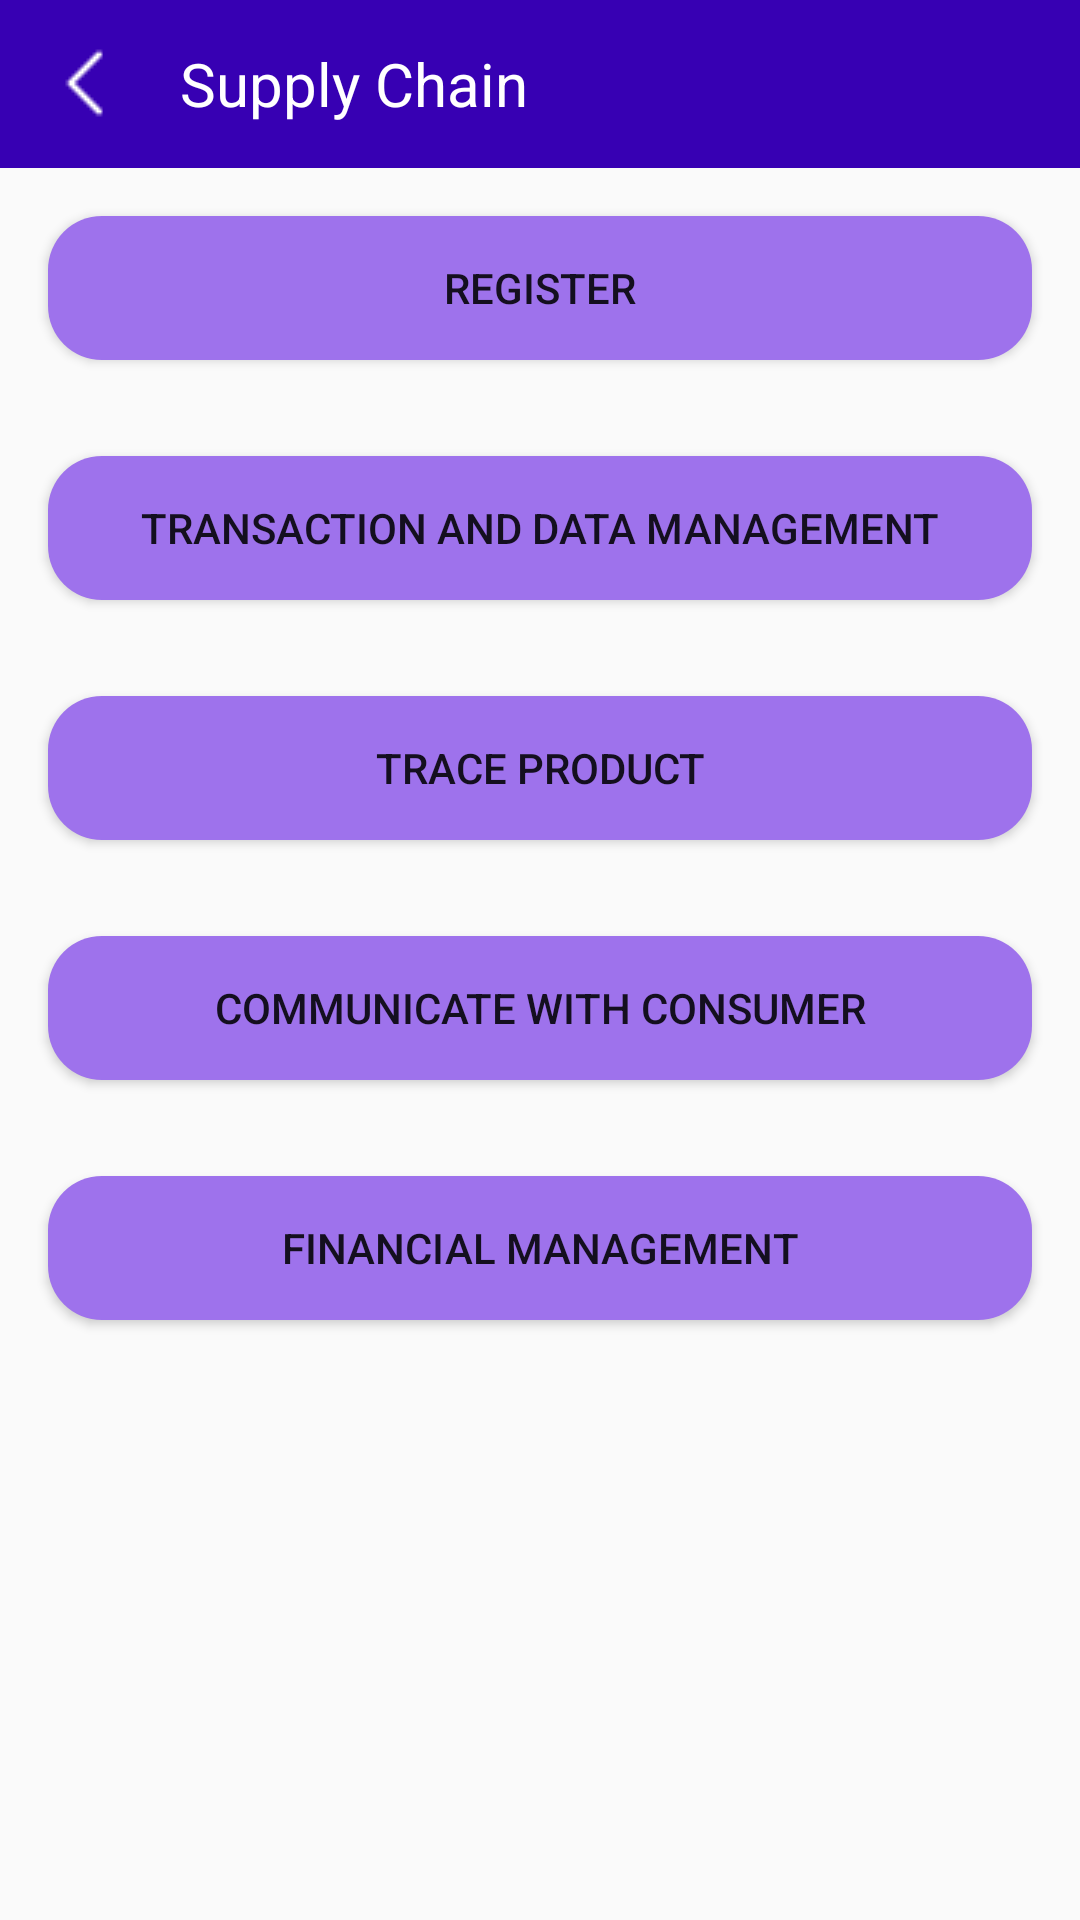

Icon click points for this 1080x1920 phone screenshot, format (x=x, y=y):
left arrow: (x=84, y=83)
